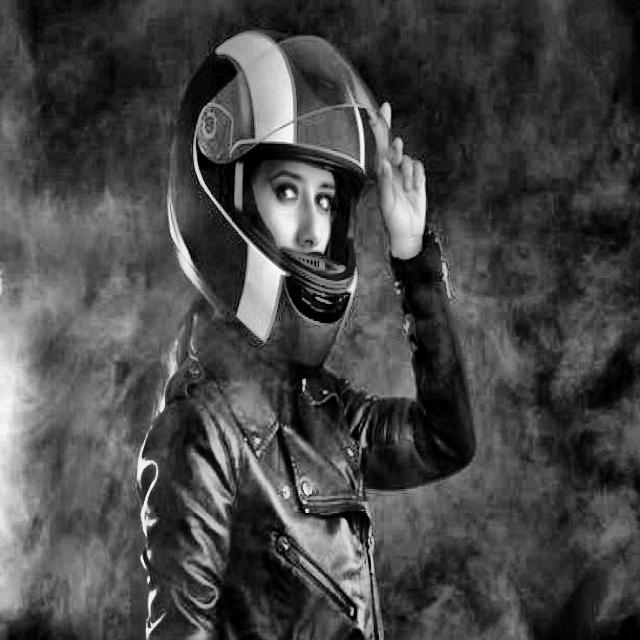Helmet: (156, 16, 400, 383)
